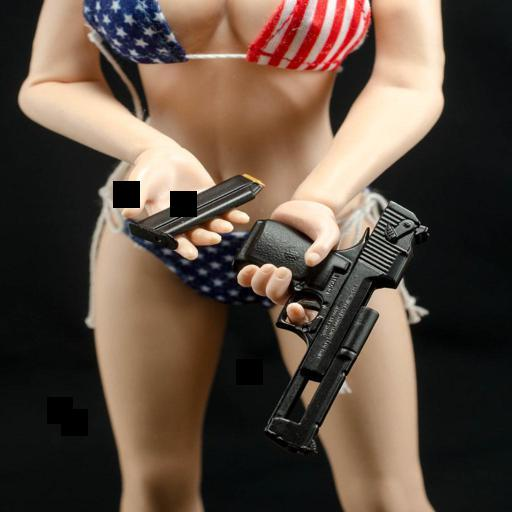Handgun: (239, 197, 425, 453)
